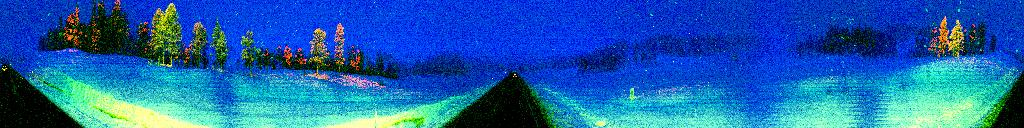pole: (372, 104, 379, 128)
